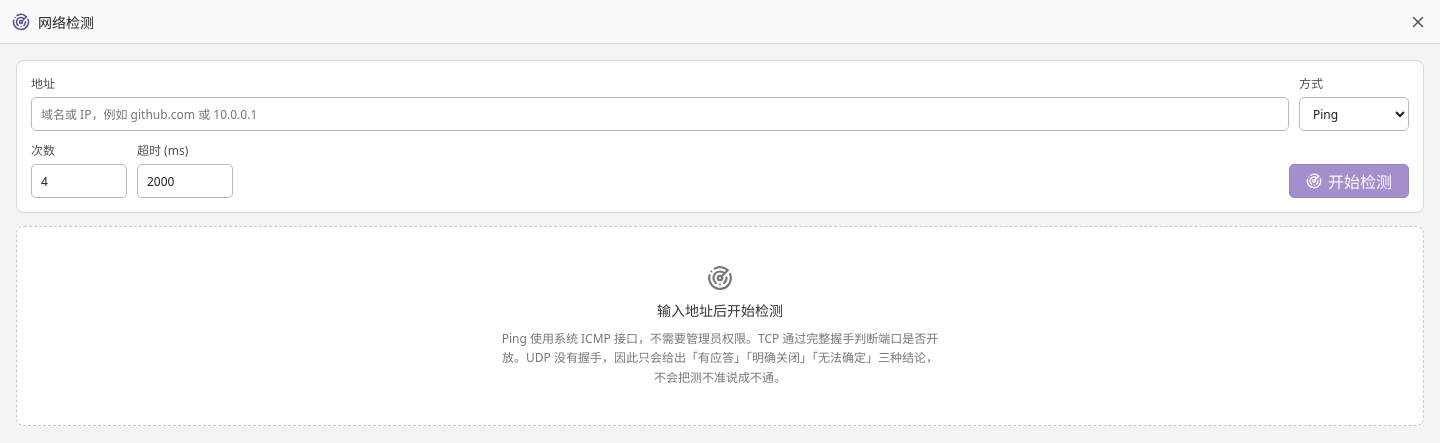
it: NetCheckTool › hides the port field for ping and shows it for the port probes
The image size is (1440, 443).
Select "TCP 端口" in the dropdown labelled "方式" at (1354, 114), box [1299, 97, 1409, 131]
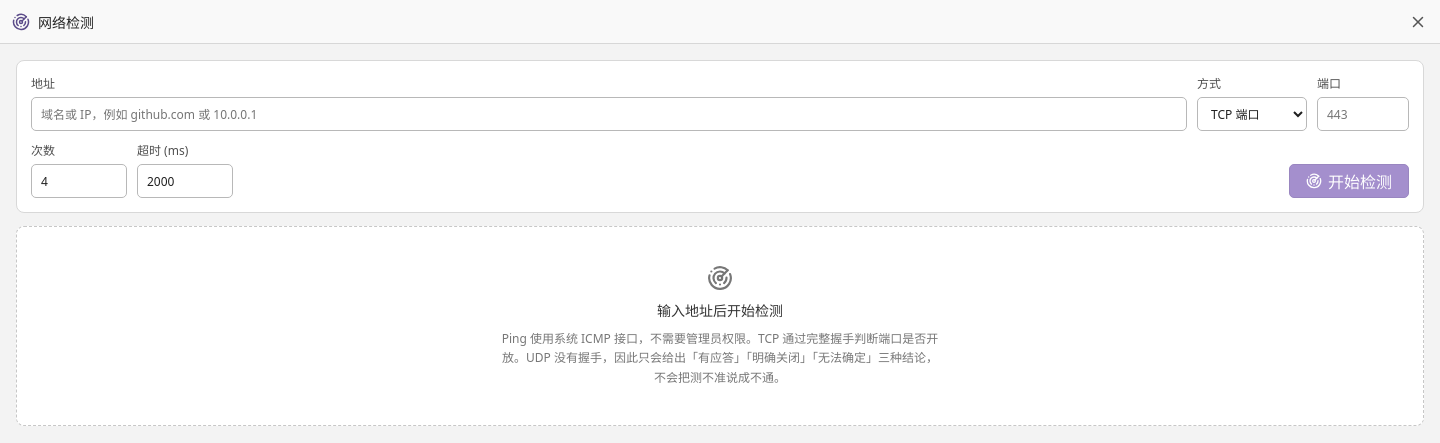
Result: the field labelled "端口" is shown at [1317, 97, 1409, 131]
